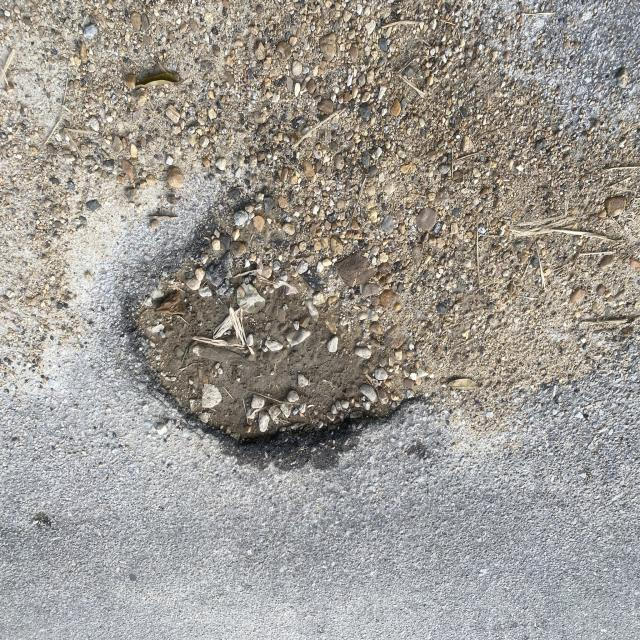Pothole: (92, 198, 409, 576)
